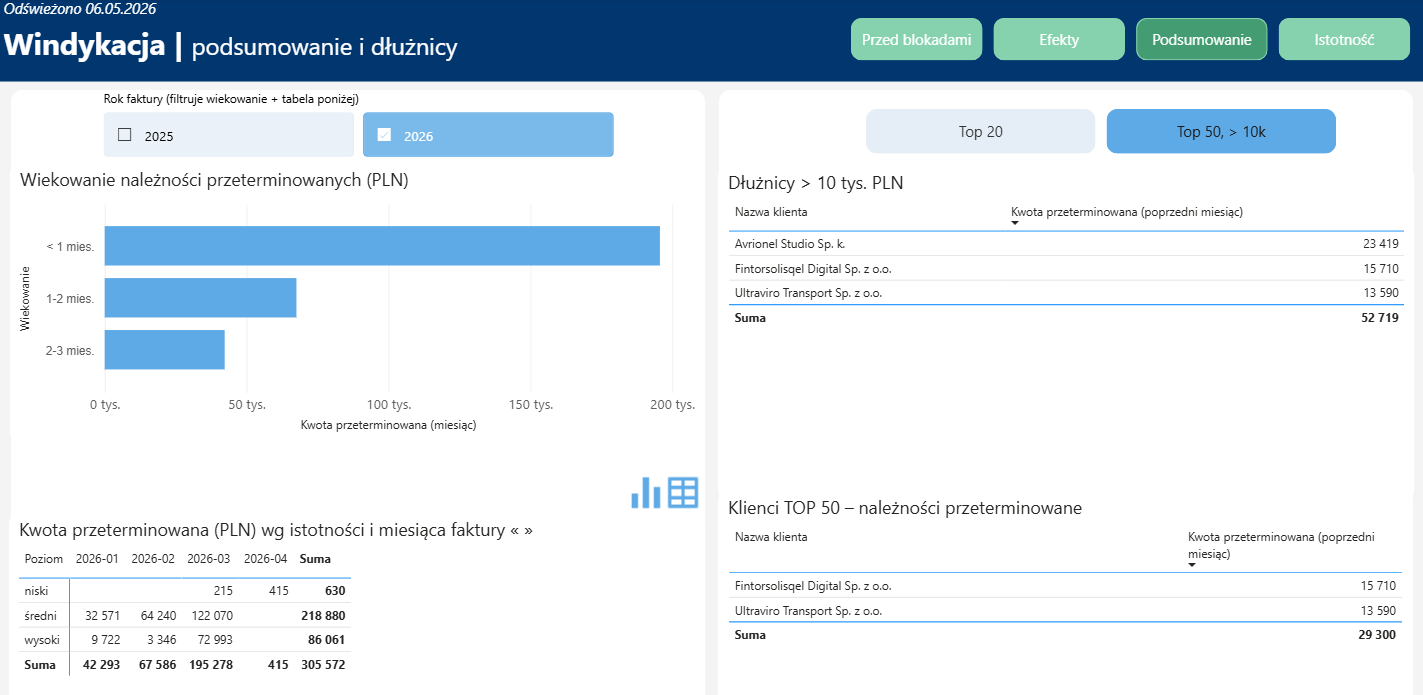

The dashboard page shown, as its layout file describes it:
{"tool":"powerbi","page":{"name":"Podsumowanie","canvas":[1280,720],"ordinal":2},"visuals":[{"type":"shape","box":[647.1,82.7,623.1,629.7],"z":0},{"type":"shape","box":[12,82.7,623.1,630.8],"z":1000},{"type":"clusteredBarChart","title":"Wiekowanie należności przeterminowanych (PLN)","fields":{"Y":["Miary.Kwota przeterminowana (miesiąc)"],"Category":["Aktualny_plik_szczegoly.Wiekowanie"]},"box":[10.7,147.8,624.4,250.9],"z":2000},{"type":"advancedSlicerVisual","title":"Rok faktury (filtruje wiekowanie + tabela poniżej)","fields":{"Values":["Aktualny_plik_szczegoly.Rok faktury"]},"box":[89.5,82.7,468.8,65.2],"z":3000},{"type":"pivotTable","title":"Top 20 dłużników - kwota przeterminowana (PLN) na dzień raportu","fields":{"Rows":["Aktualny_plik_szczegoly.Klient Nazwa"],"Values":["Miary.Kwota przeterminowana (miesiąc)"],"Columns":["Aktualny_plik_szczegoly.Rok faktury"]},"box":[646.8,147.8,622.5,556.4],"z":6000},{"type":"textbox","box":[0,0,1280.2,75],"z":7000},{"type":"pageNavigator","box":[765.8,18,503.6,38.6],"z":8000},{"type":"bookmarkNavigator","box":[778.9,100,422.6,40.6],"z":9000},{"type":"image","title":"Przycisk tabela","box":[597.5,425.5,36.2,37.1],"z":10000},{"type":"image","title":"Przycisk wykres","box":[564.9,427.3,34.4,35.3],"z":11000},{"type":"columnChart","title":"Kwota przeterminowana (PLN) wg istotności i miesiąca faktury","fields":{"Category":["Aktualny_plik_szczegoly.Miesiąc faktury"],"Y":["Miara.Kwota przeterminowana (PLN) wg poziomu"],"Series":["Istotnosc_poziom.Poziom"]},"box":[10,462.6,624.6,249.8],"z":12000},{"type":"pivotTable","title":"Kwota przeterminowana (PLN) wg istotności i miesiąca faktury « »","fields":{"Columns":["Aktualny_plik_szczegoly.Miesiąc faktury"],"Values":["Miary.Kwota przeterminowana (PLN) wg poziomu"],"Rows":["Istotnosc_poziom.Poziom"]},"box":[10,462.6,622.8,249.8],"z":13000}]}

Visuals, with their boxes on the page's 1280x720 design canvas (x1, y1, x2, y2). These are canvas units, not pixel positions in the 1423x695 screenshot, which may show the page scaled, cropped or inside an application window:
shape: bbox=[647, 83, 1270, 712]
shape: bbox=[12, 83, 635, 714]
"Wiekowanie należności przeterminowanych (PLN)" clusteredBarChart: bbox=[11, 148, 635, 399]
"Rok faktury (filtruje wiekowanie + tabela poniżej)" advancedSlicerVisual: bbox=[90, 83, 558, 148]
"Top 20 dłużników - kwota przeterminowana (PLN) na dzień raportu" pivotTable: bbox=[647, 148, 1269, 704]
textbox: bbox=[0, 0, 1280, 75]
pageNavigator: bbox=[766, 18, 1269, 57]
bookmarkNavigator: bbox=[779, 100, 1202, 141]
"Przycisk tabela" image: bbox=[598, 426, 634, 463]
"Przycisk wykres" image: bbox=[565, 427, 599, 463]
"Kwota przeterminowana (PLN) wg istotności i miesiąca faktury" columnChart: bbox=[10, 463, 635, 712]
"Kwota przeterminowana (PLN) wg istotności i miesiąca faktury « »" pivotTable: bbox=[10, 463, 633, 712]
